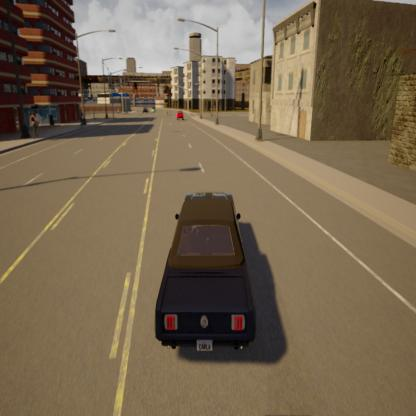Cars: (154, 188, 258, 359), (176, 109, 185, 124)
Pedestrian: (29, 108, 37, 137)
